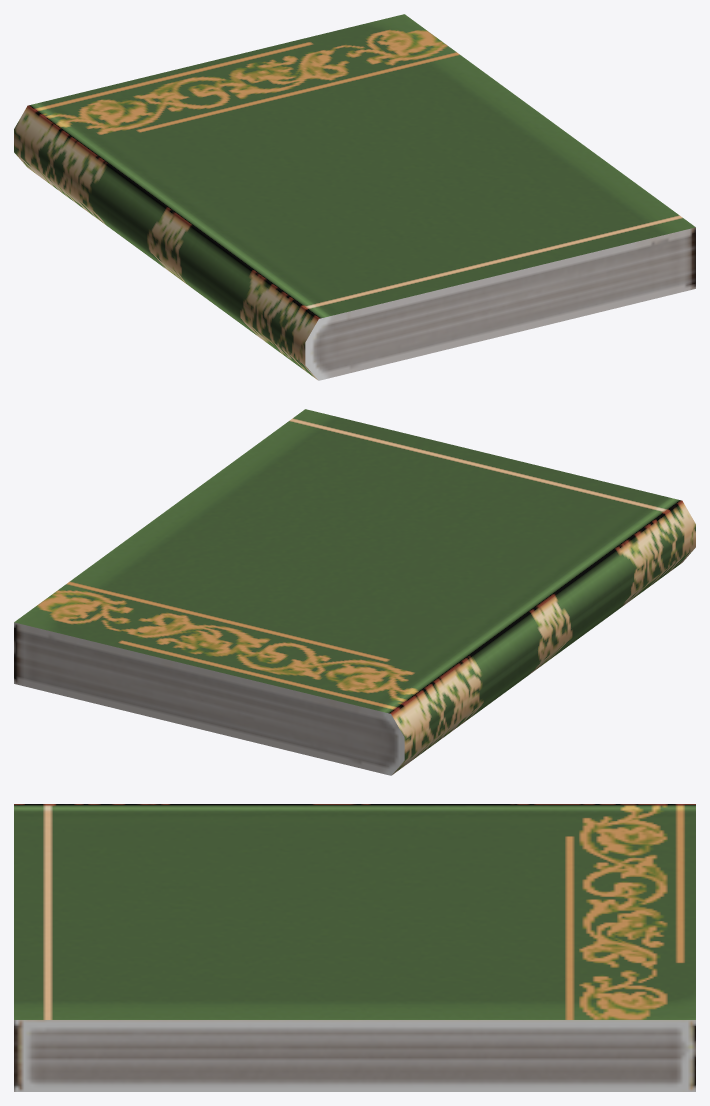
File: Book01D.FBX
The picture shows the model from 3 angles, top to bottom: view 1: azimuth 30°, elevation 25°; view 2: azimuth 150°, elevation 25°; view 3: azimuth 270°, elevation 25°; orthographic projection. The views are drawn at different scales.
Visible parts, largest first — view 1: Book01D; view 2: Book01D; view 3: Book01D.
Part boxes in pixels (x1,y1,x2,y2): Book01D: (14,14,695,380); Book01D: (14,409,695,775); Book01D: (14,804,695,1091).
Size of the model in its own units: 29.76 by 38.44 by 4.51.
